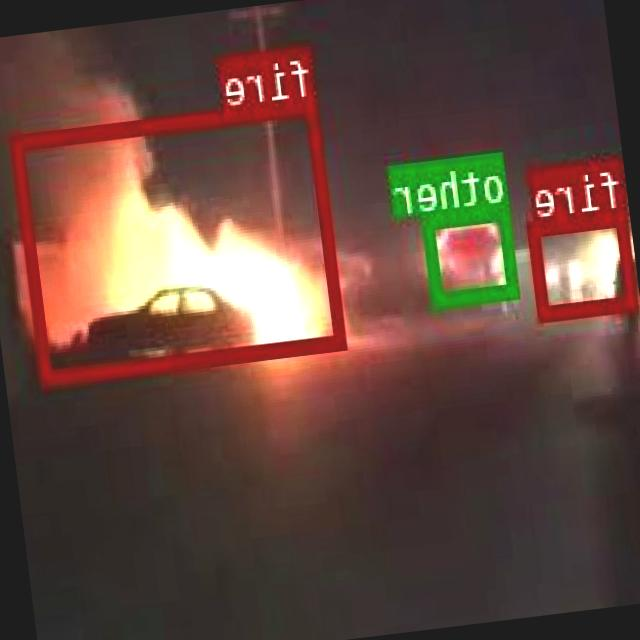fire: (12, 96, 346, 381), (530, 207, 640, 316)
